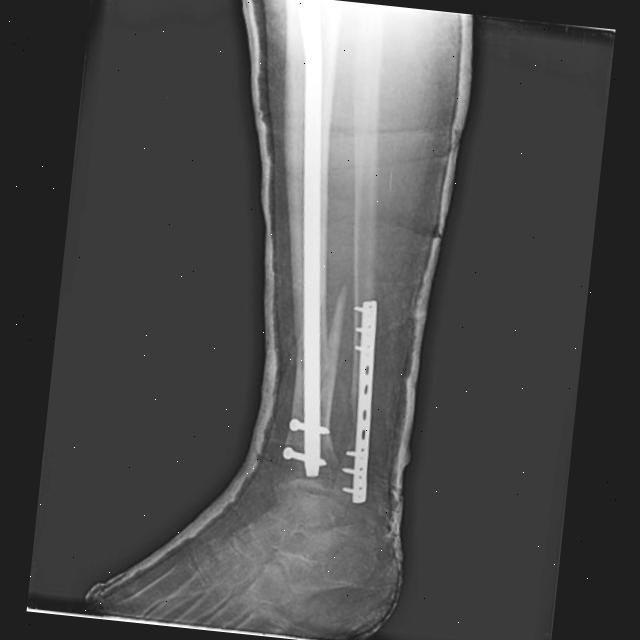fractured: (290, 281, 345, 423), (343, 384, 358, 452)
